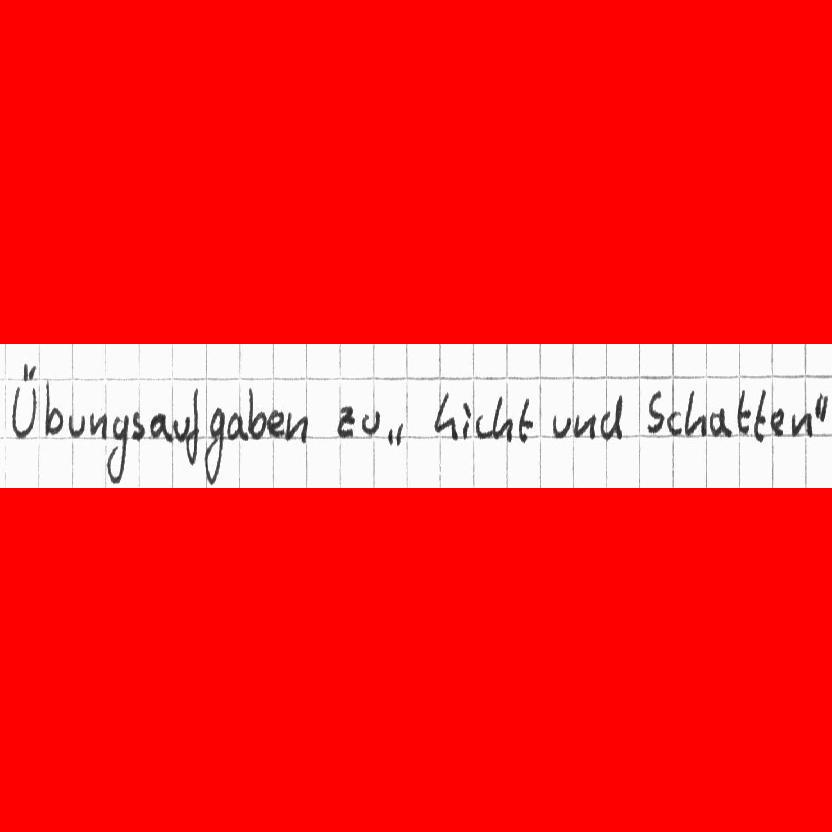Char: (7, 361, 38, 441), (104, 411, 128, 486), (202, 406, 225, 483), (600, 391, 623, 444), (683, 387, 706, 438), (185, 387, 200, 465), (43, 380, 63, 438), (433, 390, 456, 437), (490, 395, 512, 443), (246, 386, 265, 437), (752, 387, 769, 443), (644, 387, 663, 435), (284, 409, 307, 445), (710, 404, 732, 441), (736, 388, 752, 436), (789, 408, 812, 440), (227, 403, 246, 441), (335, 404, 356, 437), (518, 396, 533, 442), (575, 410, 597, 440), (550, 412, 572, 440), (86, 409, 104, 441), (67, 409, 85, 439), (815, 392, 830, 428), (361, 410, 381, 436), (268, 407, 284, 439), (166, 413, 183, 442), (770, 407, 786, 437), (130, 411, 145, 443), (386, 421, 405, 446), (149, 412, 166, 439), (666, 410, 682, 438), (459, 401, 470, 440), (474, 413, 490, 438)
